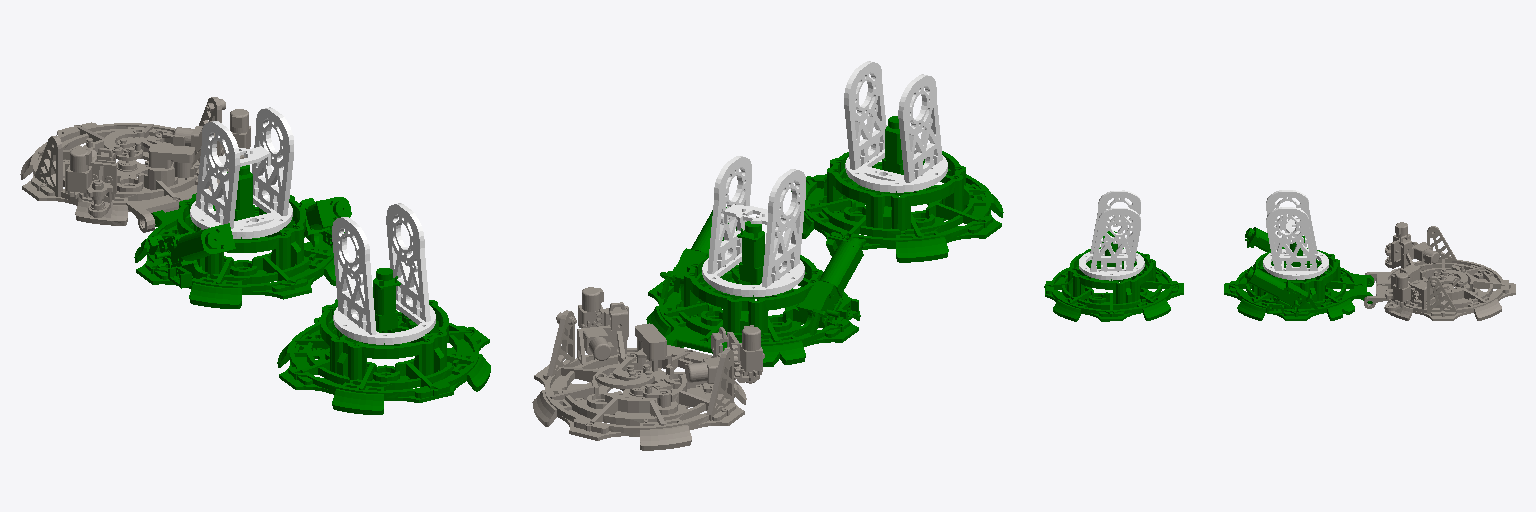
robot.urdf — Transport assembly.SLDASM:
<?xml version="1.0" encoding="utf-8"?>
<!-- This URDF was automatically created by SolidWorks to URDF Exporter! Originally created by Stephen Brawner (brawner@gmail.com) 
     Commit Version: 1.6.0-4-g7f85cfe  Build Version: 1.6.7995.38578
     For more information, please see http://wiki.ros.org/sw_urdf_exporter -->
<robot
  name="Transport assembly.SLDASM">
  <link
    name="base_link">
    <inertial>
      <origin
        xyz="0.000163744959804668 -0.00217827091913936 0.0107443288672537"
        rpy="0 0 0" />
      <mass
        value="0.0630664029067226" />
      <inertia
        ixx="3.78809406950868E-05"
        ixy="1.75247293202723E-07"
        ixz="-6.06677891640298E-08"
        iyy="3.90692117754467E-05"
        iyz="5.92999830317211E-07"
        izz="7.34553048152553E-05" />
    </inertial>
    <visual>
      <origin
        xyz="0 0 0"
        rpy="0 0 0" />
      <geometry>
        <mesh
          filename="base_link.obj" />
      </geometry>
      <material
        name="">
        <color
          rgba="0 0.501960784313725 0 1" />
      </material>
    </visual>
    <collision>
      <origin
        xyz="0 0 0"
        rpy="0 0 0" />
      <geometry>
        <mesh
          filename="base_link.obj" />
      </geometry>
    </collision>
  </link>
  <link
    name="link1">
    <inertial>
      <origin
        xyz="5.72458747072346E-17 -0.00136750160345761 0.0165385689598763"
        rpy="0 0 0" />
      <mass
        value="0.0254457206294088" />
      <inertia
        ixx="8.41512001138991E-06"
        ixy="2.66197325687203E-21"
        ixz="1.14311203441605E-22"
        iyy="6.77155470917693E-06"
        iyz="5.9725556424391E-07"
        izz="6.55490236959769E-06" />
    </inertial>
    <visual>
      <origin
        xyz="0 0 0"
        rpy="0 0 0" />
      <geometry>
        <mesh
          filename="link1.obj" />
      </geometry>
      <material
        name="">
        <color
          rgba="1 1 1 1" />
      </material>
    </visual>
    <collision>
      <origin
        xyz="0 0 0"
        rpy="0 0 0" />
      <geometry>
        <mesh
          filename="link1.obj" />
      </geometry>
    </collision>
  </link>
  <joint
    name="joint1"
    type="revolute">
    <origin
      xyz="0 -0.0011474 0.026"
      rpy="0 0 0" />
    <parent
      link="base_link" />
    <child
      link="link1" />
    <axis
      xyz="0 0 -1" />
    <limit
      lower="0"
      upper="0"
      effort="0"
      velocity="0" />
  </joint>
  <link
    name="link2">
    <inertial>
      <origin
        xyz="0.0208200110236432 0.00363440918518714 -0.0630692780331436"
        rpy="0 0 0" />
      <mass
        value="0.159020536179958" />
      <inertia
        ixx="6.29655280565017E-05"
        ixy="2.76922929230061E-08"
        ixz="2.74448985502552E-05"
        iyy="8.80851465212598E-05"
        iyz="5.53695565878849E-08"
        izz="3.51811770099832E-05" />
    </inertial>
    <visual>
      <origin
        xyz="0 0 0"
        rpy="0 0 0" />
      <geometry>
        <mesh
          filename="link2.obj" />
      </geometry>
      <material
        name="">
        <color
          rgba="0.776470588235294 0.756862745098039 0.737254901960784 1" />
      </material>
    </visual>
    <collision>
      <origin
        xyz="0 0 0"
        rpy="0 0 0" />
      <geometry>
        <mesh
          filename="link2.obj" />
      </geometry>
    </collision>
  </link>
  <joint
    name="joint2"
    type="revolute">
    <origin
      xyz="-0.0013231 -0.005153 0.04"
      rpy="-3.1416 0 -1.5708" />
    <parent
      link="link1" />
    <child
      link="link2" />
    <axis
      xyz="0 -1 0" />
    <limit
      lower="0"
      upper="0"
      effort="0"
      velocity="0" />
  </joint>
  <link
    name="link3">
    <inertial>
      <origin
        xyz="-0.00678060138740428 -0.0467783911876384 -0.056424431468409"
        rpy="0 0 0" />
      <mass
        value="0.27767501869195" />
      <inertia
        ixx="7.44237200718863E-05"
        ixy="-2.71831129181852E-08"
        ixz="9.50815491971358E-08"
        iyy="5.40948188570394E-05"
        iyz="-1.16054211837408E-05"
        izz="3.51809420841382E-05" />
    </inertial>
    <visual>
      <origin
        xyz="0 0 0"
        rpy="0 0 0" />
      <geometry>
        <mesh
          filename="link3.obj" />
      </geometry>
      <material
        name="">
        <color
          rgba="1 1 1 1" />
      </material>
    </visual>
    <collision>
      <origin
        xyz="0 0 0"
        rpy="0 0 0" />
      <geometry>
        <mesh
          filename="link3.obj" />
      </geometry>
    </collision>
  </link>
  <joint
    name="joint3"
    type="revolute">
    <origin
      xyz="0.068824 -0.0037231 -0.12774"
      rpy="3.1416 0 -1.5708" />
    <parent
      link="link2" />
    <child
      link="link3" />
    <axis
      xyz="-1 0 0" />
    <limit
      lower="0"
      upper="0"
      effort="0"
      velocity="0" />
  </joint>
  <link
    name="link4">
    <inertial>
      <origin
        xyz="-0.0024 -0.0034706 -0.023963"
        rpy="0 0 0" />
      <mass
        value="0.024594" />
      <inertia
        ixx="8.4009E-06"
        ixy="-2.0383E-21"
        ixz="-8.4693E-22"
        iyy="6.693E-06"
        iyz="-5.9469E-07"
        izz="6.4449E-06" />
    </inertial>
    <visual>
      <origin
        xyz="0 0 0"
        rpy="0 0 0" />
      <geometry>
        <mesh
          filename="link4.obj" />
      </geometry>
      <material
        name="">
        <color
          rgba="1 1 1 1" />
      </material>
    </visual>
    <collision>
      <origin
        xyz="0 0 0"
        rpy="0 0 0" />
      <geometry>
        <mesh
          filename="link4.obj" />
      </geometry>
    </collision>
  </link>
  <joint
    name="joint4"
    type="revolute">
    <origin
      xyz="0 -0.068169 -0.12809"
      rpy="0 0 0" />
    <parent
      link="link3" />
    <child
      link="link4" />
    <axis
      xyz="1 0 0" />
    <limit
      lower="0"
      upper="0"
      effort="0"
      velocity="0" />
  </joint>
  <link
    name="link5">
    <inertial>
      <origin
        xyz="-2.2475E-07 -0.0017668 -0.018325"
        rpy="0 0 0" />
      <mass
        value="0.044819" />
      <inertia
        ixx="3.2113E-05"
        ixy="3.3611E-10"
        ixz="-4.2814E-12"
        iyy="3.2498E-05"
        iyz="-1.2062E-08"
        izz="6.2008E-05" />
    </inertial>
    <visual>
      <origin
        xyz="0 0 0"
        rpy="0 0 0" />
      <geometry>
        <mesh
          filename="link5.obj" />
      </geometry>
      <material
        name="">
        <color
          rgba="0 0.50196 0 1" />
      </material>
    </visual>
    <collision>
      <origin
        xyz="0 0 0"
        rpy="0 0 0" />
      <geometry>
        <mesh
          filename="link5.obj" />
      </geometry>
    </collision>
  </link>
  <joint
    name="joint5"
    type="revolute">
    <origin
      xyz="-0.0024 -0.0047822 -0.040046"
      rpy="0.009264 0 0" />
    <parent
      link="link4" />
    <child
      link="link5" />
    <axis
      xyz="0 0 -1" />
    <limit
      lower="0"
      upper="0"
      effort="0"
      velocity="0" />
  </joint>
  <link
    name="grasp">
    <inertial>
      <origin
        xyz="-0.0467443710710704 0.00233277146161747 -0.00990169432155956"
        rpy="0 0 0" />
      <mass
        value="0.0765883521641176" />
      <inertia
        ixx="3.34962056847805E-05"
        ixy="7.12443341908282E-08"
        ixz="4.81633031532234E-07"
        iyy="3.0784228696571E-05"
        iyz="-2.38677245728882E-08"
        izz="6.06569901080138E-05" />
    </inertial>
    <visual>
      <origin
        xyz="0 0 0"
        rpy="0 0 0" />
      <geometry>
        <mesh
          filename="grasp.obj" />
      </geometry>
      <material
        name="">
        <color
          rgba="0.647058823529412 0.619607843137255 0.588235294117647 1" />
      </material>
    </visual>
    <collision>
      <origin
        xyz="0 0 0"
        rpy="0 0 0" />
      <geometry>
        <mesh
          filename="grasp.obj" />
      </geometry>
    </collision>
  </link>
  <joint
    name="joint_grasp"
    type="revolute">
    <origin
      xyz="0.0005 0.060753 0"
      rpy="3.1416 0 -1.5708" />
    <parent
      link="base_link" />
    <child
      link="grasp" />
    <axis
      xyz="0 -1 0" />
    <limit
      lower="0"
      upper="0"
      effort="0"
      velocity="0" />
  </joint>
</robot>

--- Render facts (derived) ---
Views: 3 orthographic renders of the robot side by side, from view 1: azimuth 30°, elevation 25°; view 2: azimuth 150°, elevation 25°; view 3: azimuth 270°, elevation 25°.
Model Transport assembly.SLDASM with 7 links and 6 joints (6 revolute), rooted at base_link, posed all joints at 0.
Links seen in each view (by area): view 1: grasp, base_link, link5, link1, link4; view 2: grasp, base_link, link5, link1, link4; view 3: grasp, base_link, link5, link1, link4.
Boxes of the visible links, bbox=[...] form: grasp: bbox=[20, 97, 250, 232]; base_link: bbox=[134, 165, 351, 308]; link5: bbox=[277, 268, 490, 414]; link1: bbox=[190, 107, 293, 238]; link4: bbox=[332, 203, 435, 344]; grasp: bbox=[532, 287, 764, 450]; base_link: bbox=[646, 207, 863, 366]; link5: bbox=[791, 116, 1003, 262]; link1: bbox=[702, 156, 805, 296]; link4: bbox=[844, 61, 947, 192]; grasp: bbox=[1364, 222, 1515, 320]; base_link: bbox=[1224, 227, 1373, 320]; link5: bbox=[1044, 231, 1183, 321]; link1: bbox=[1263, 190, 1328, 279]; link4: bbox=[1079, 190, 1144, 280].
Bounding box of the posed robot: 0.118 × 0.3845 × 0.0883 m (x, y, z).
5 mesh visuals loaded from 7 distinct referenced files (5 OBJ); not drawn: 2 (reference not matched to a file when rendering).
